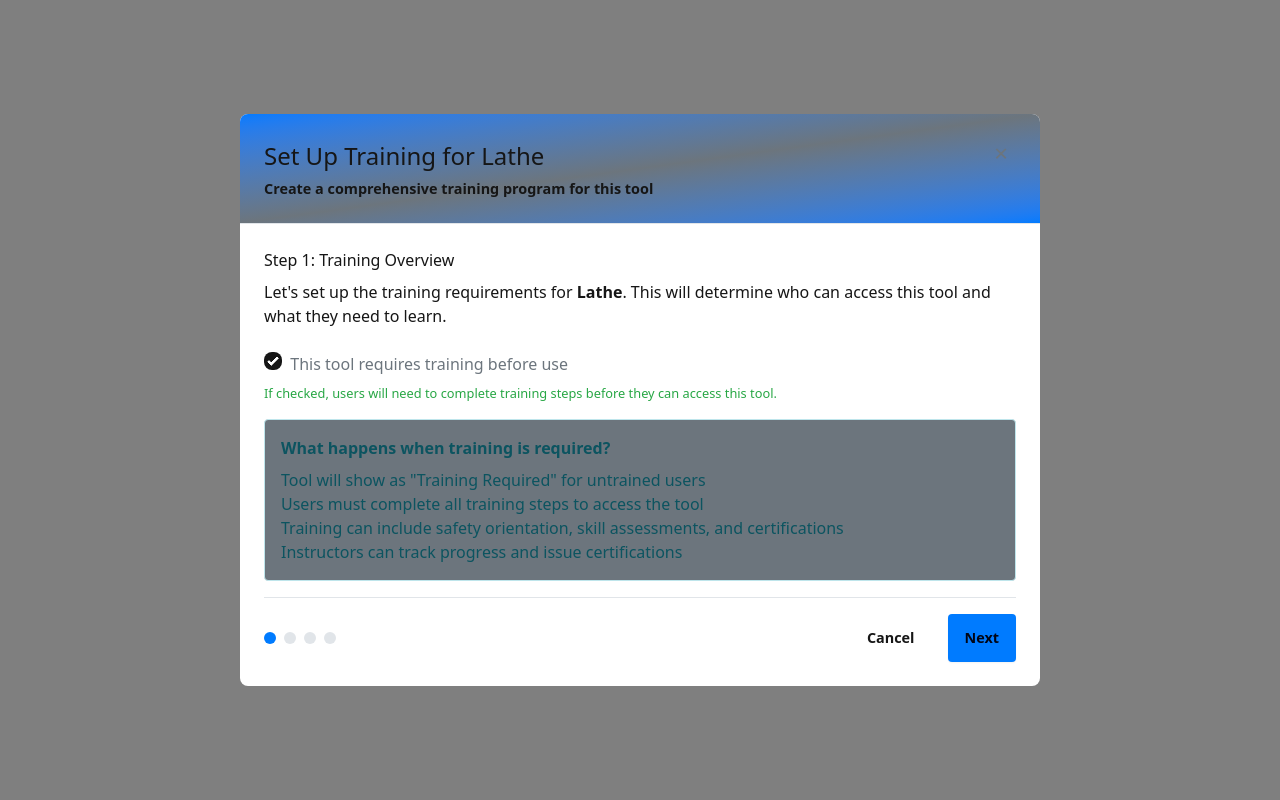
Test: walking the wizard › goes back as well as forward
This screenshot has width=1280, height=800.
Click the button "Next" at (982,638), box [948,614,1016,662]
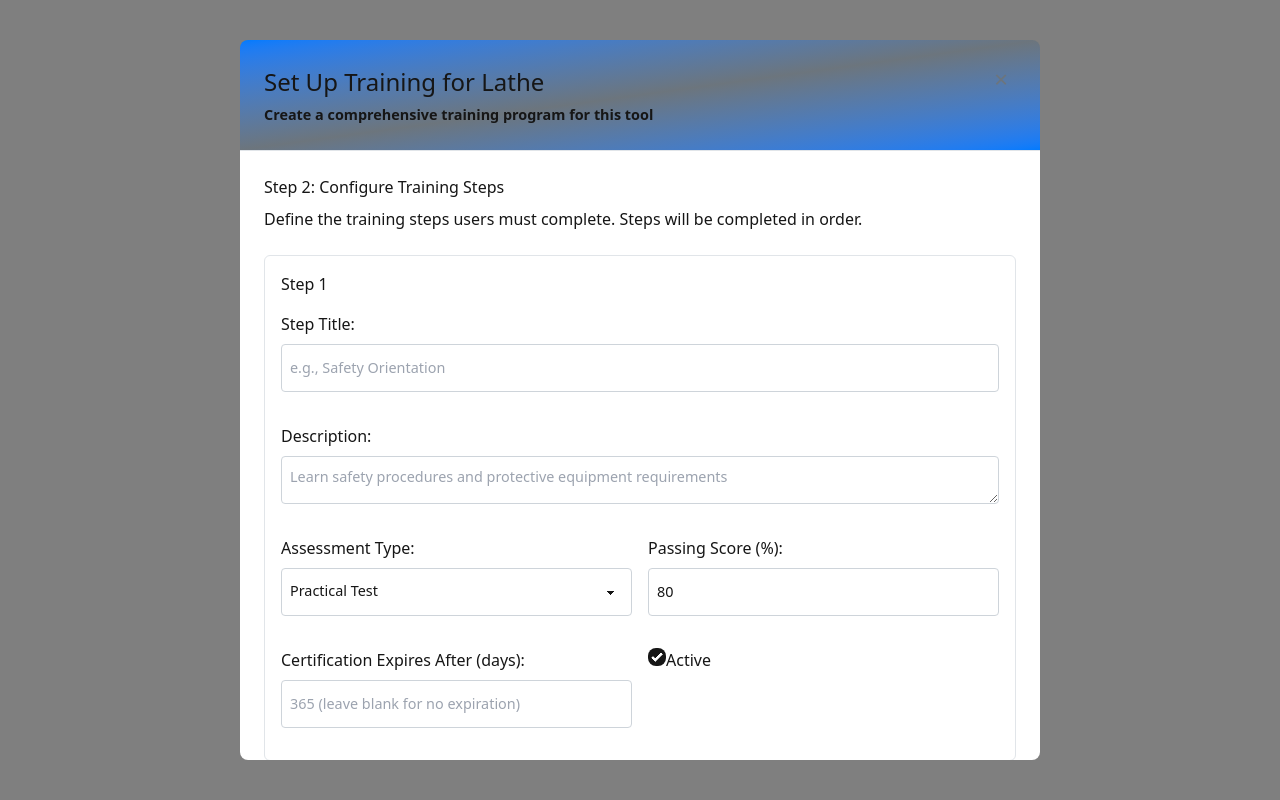
Type "Safety" into the field with placeholder "e.g., Safety Orientation" at (640,368), box [281,344,999,392]
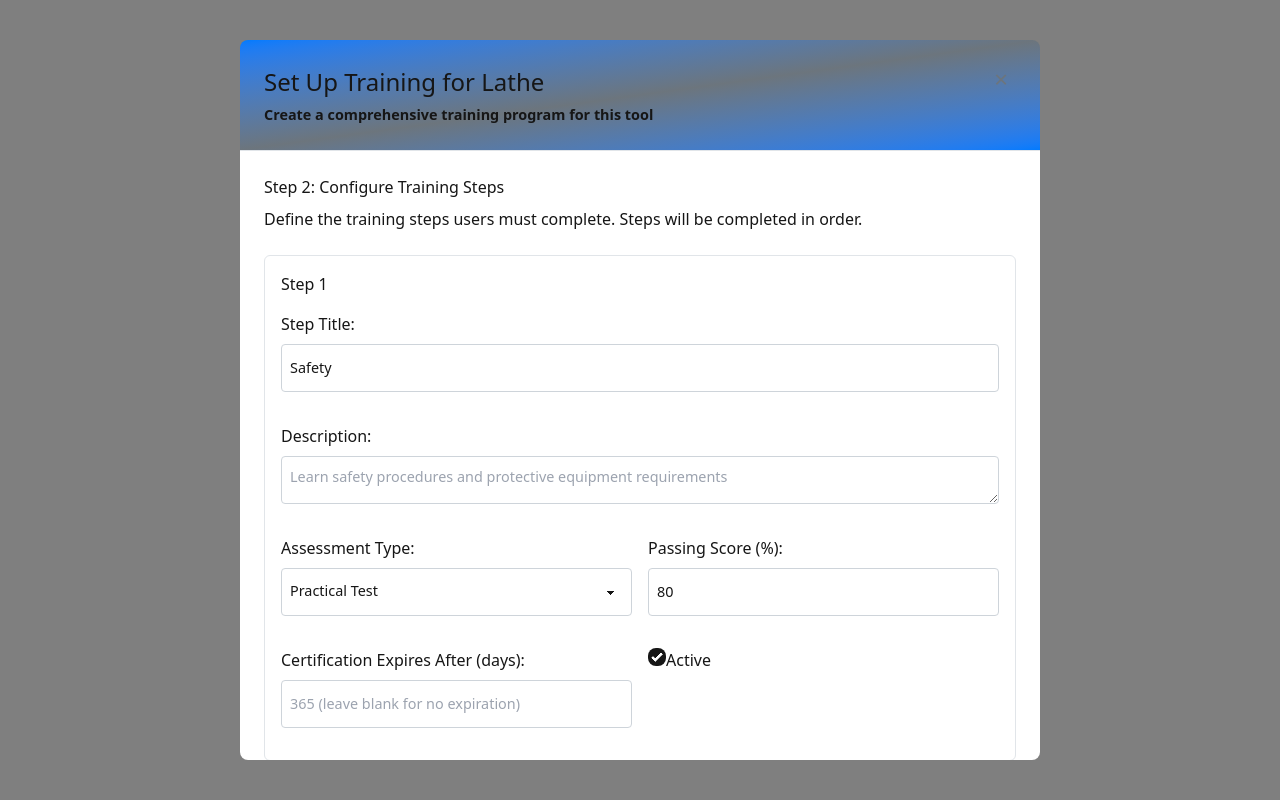
Replace the text in the text box with "Guards and PPE" at (640,480), box [281,456,999,504]
(page scrolled)
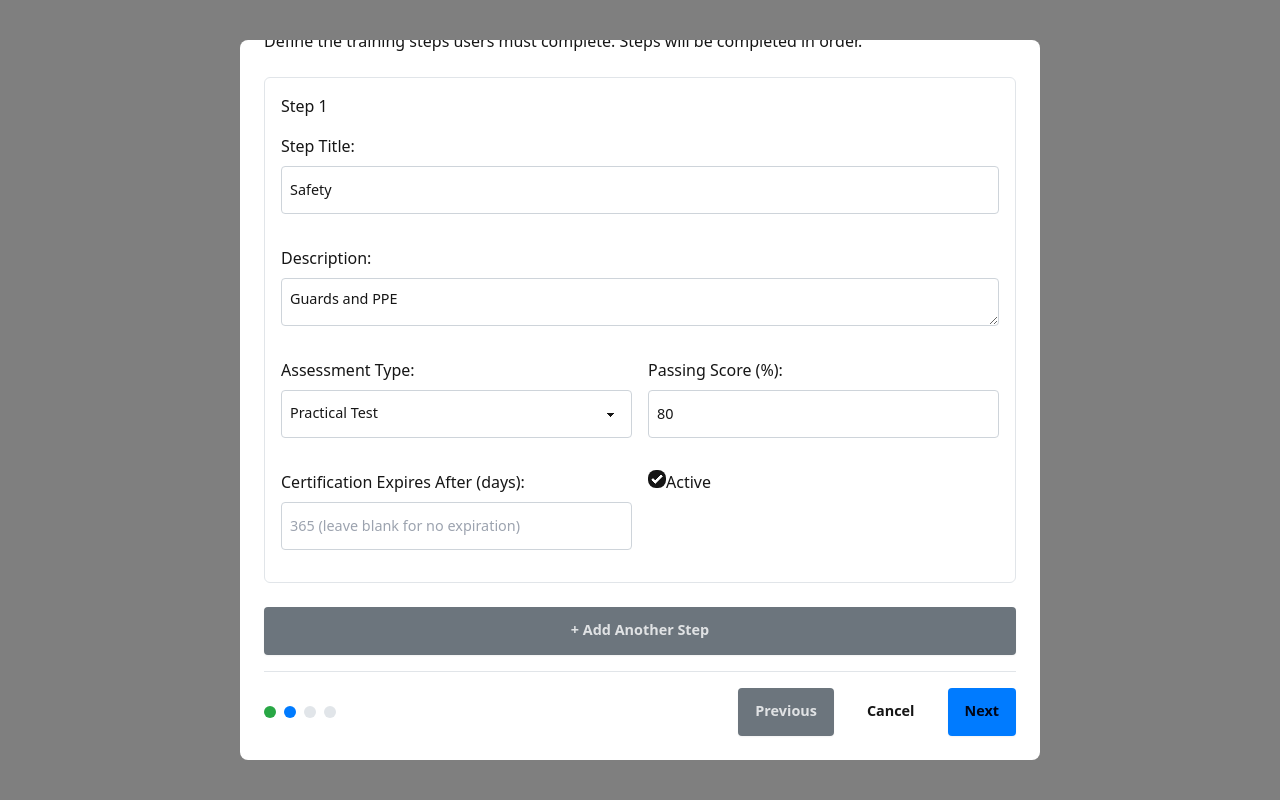
Click the button "Next" at (982,712), box [948,688,1016,736]
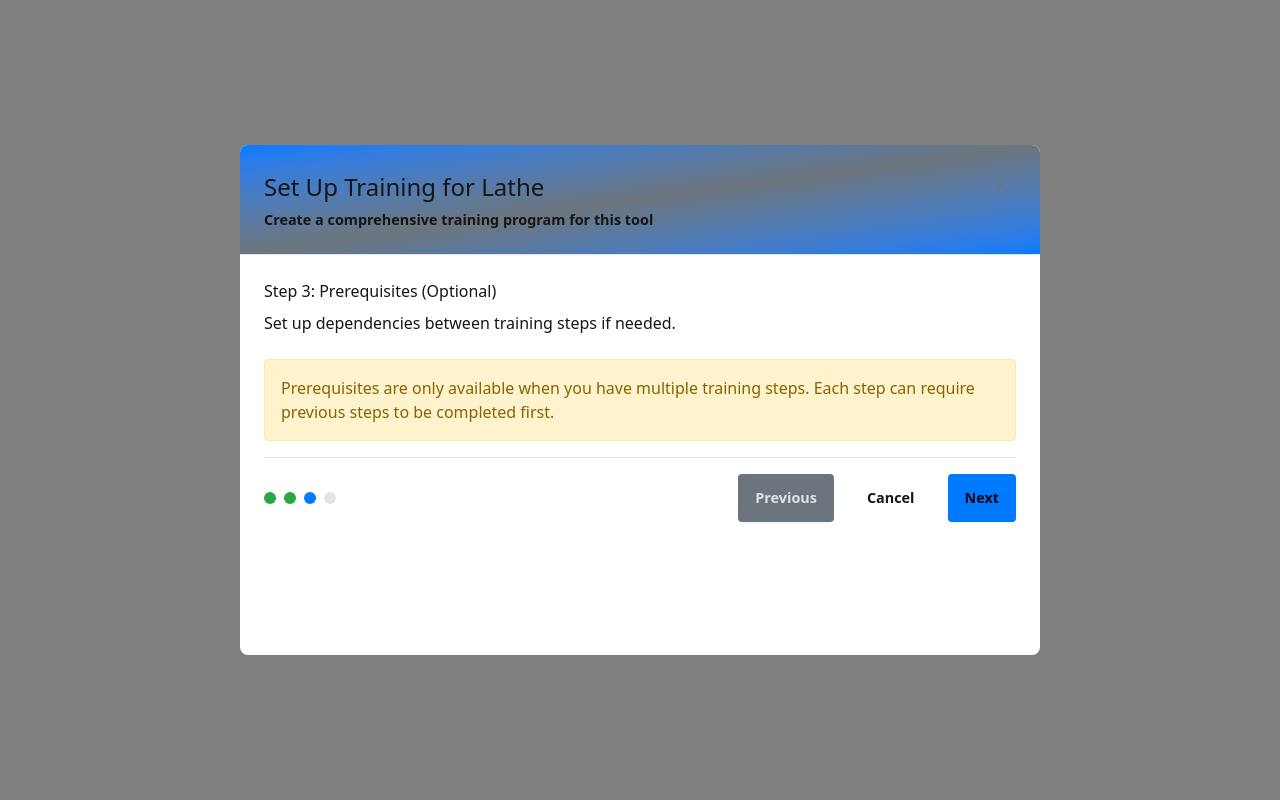
Click the button "Previous" at (786,498), box [738,474,834,522]
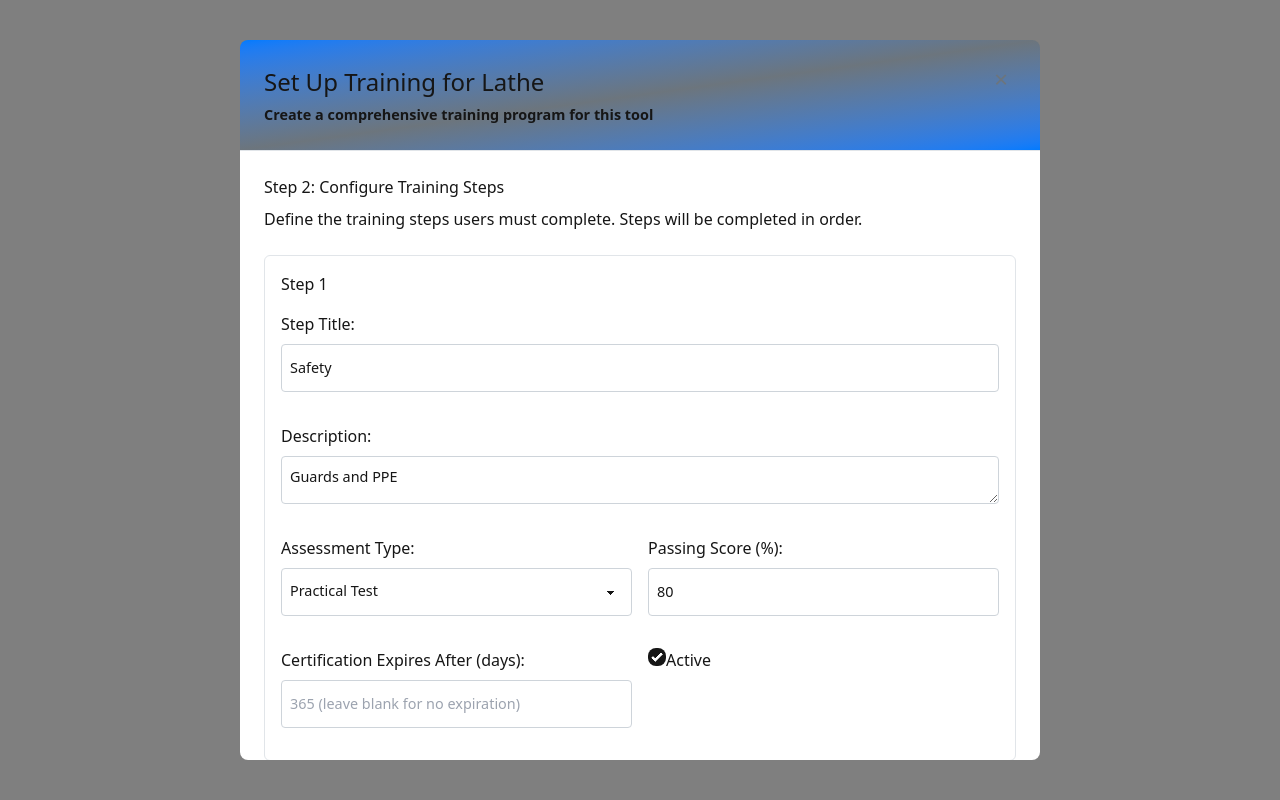
expect the number of fields is 1: met, box [281,344,999,392]
